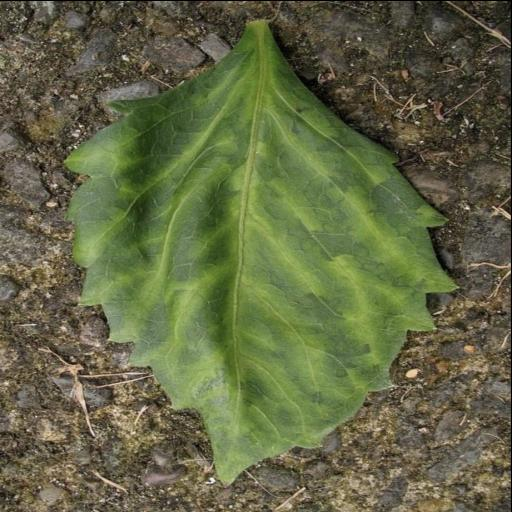Mosaic Virus: (62, 22, 456, 488)
